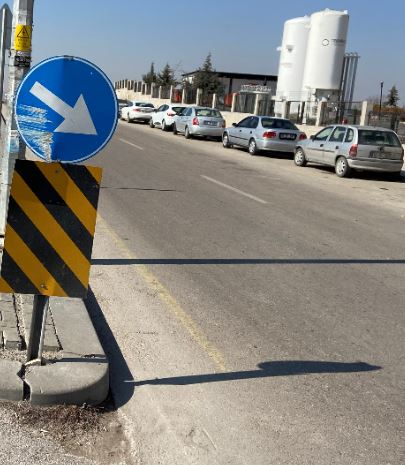Sagdan Git: (18, 48, 120, 169)
